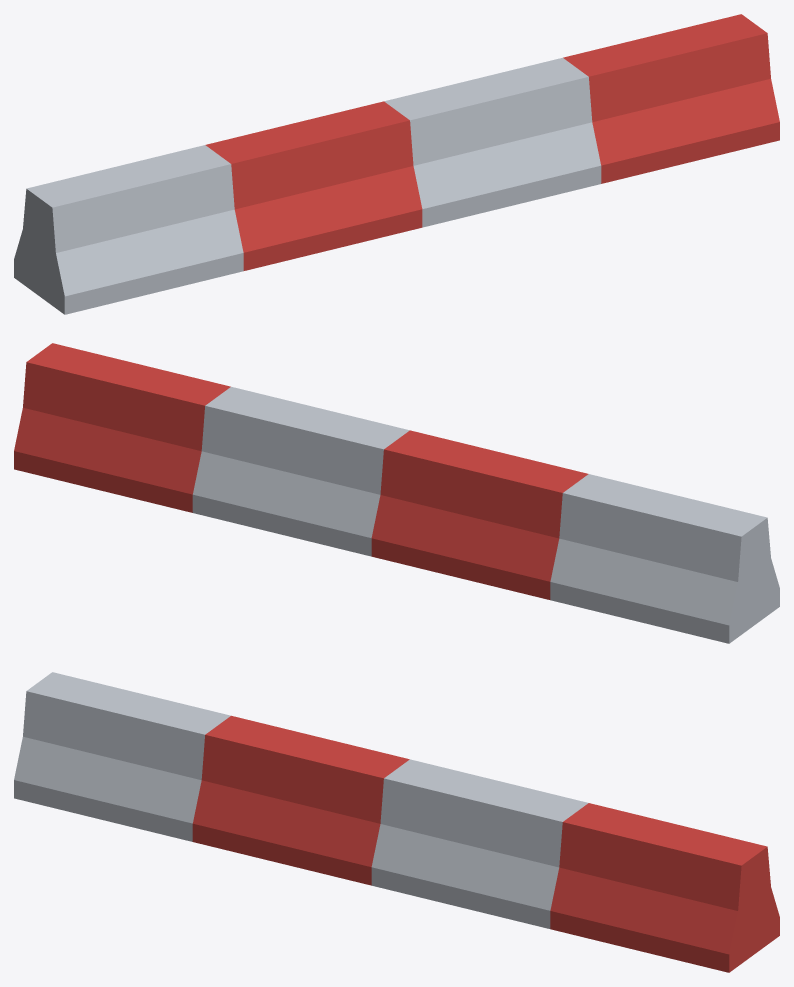
The model's file is barrier_wall.glb.
3 renders of one model, top to bottom at view 1: azimuth 30°, elevation 25°; view 2: azimuth 150°, elevation 25°; view 3: azimuth 330°, elevation 25°, orthographic.
Parts seen in each view (by area): view 1: barrier_wall; view 2: barrier_wall; view 3: barrier_wall.
Part boxes in pixels (<box>): barrier_wall: <box>14,14,779,314</box>; barrier_wall: <box>14,343,779,643</box>; barrier_wall: <box>14,672,779,972</box>.
Bounding box in the file's own units: 4 × 0.5248 × 0.492.
